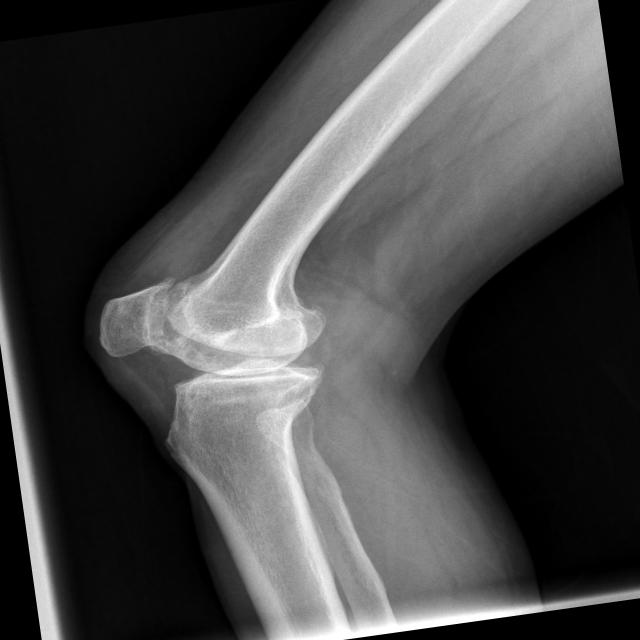Knee: (90, 255, 343, 482)
